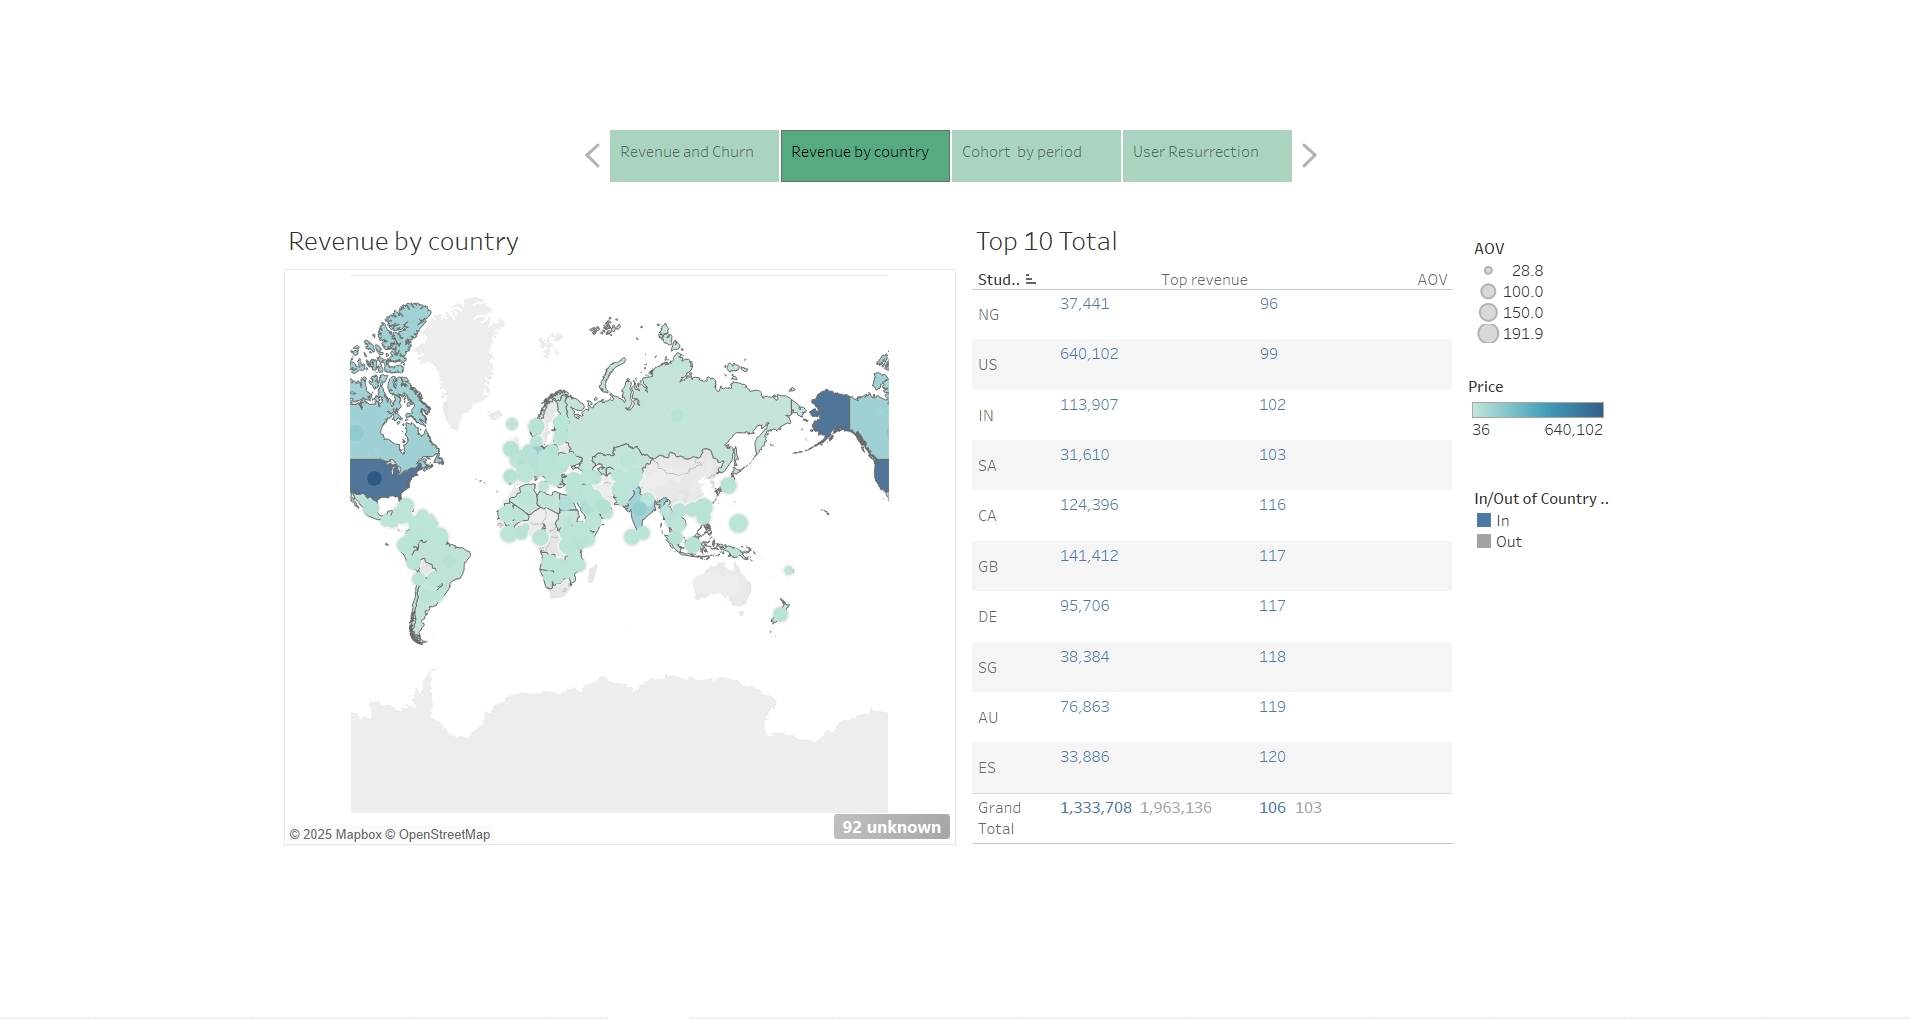

What the dashboard file says about the page in this screenshot:
{"tool":"tableau","page":{"name":"Revenue Country","canvas":[1350,669],"ordinal":1},"visuals":[{"type":"worksheet","title":"Revenue by country","mark":"Automatic","box":[8,17,672,626]},{"type":"worksheet","title":"Top 10 Total","mark":"Automatic","rows":["student_country"],"box":[696,17,481,625]},{"type":"legend","title":"Revenue by country","param":"[federated.0zq1d7217pxqgw12beexu07l0qtv].[usr:Calculation_1139129281294774275:qk","box":[1198,36,140,106]},{"type":"legend","title":"Revenue by country","param":"[federated.0zq1d7217pxqgw12beexu07l0qtv].[sum:price:qk]","box":[1192,174,140,88]},{"type":"legend","title":"Top 10 Total","param":"[federated.0zq1d7217pxqgw12beexu07l0qtv].[io:Country Set:nk]","box":[1198,286,140,64]}]}

Visuals, with their boxes on the page's 1350x669 design canvas (x1, y1, x2, y2). These are canvas units, not pixel positions in the 1910x1019 screenshot, which may show the page scaled, cropped or inside an application window:
"Revenue by country" worksheet: [left=8, top=17, right=680, bottom=643]
"Top 10 Total" worksheet: [left=696, top=17, right=1177, bottom=642]
"Revenue by country" legend: [left=1198, top=36, right=1338, bottom=142]
"Revenue by country" legend: [left=1192, top=174, right=1332, bottom=262]
"Top 10 Total" legend: [left=1198, top=286, right=1338, bottom=350]
